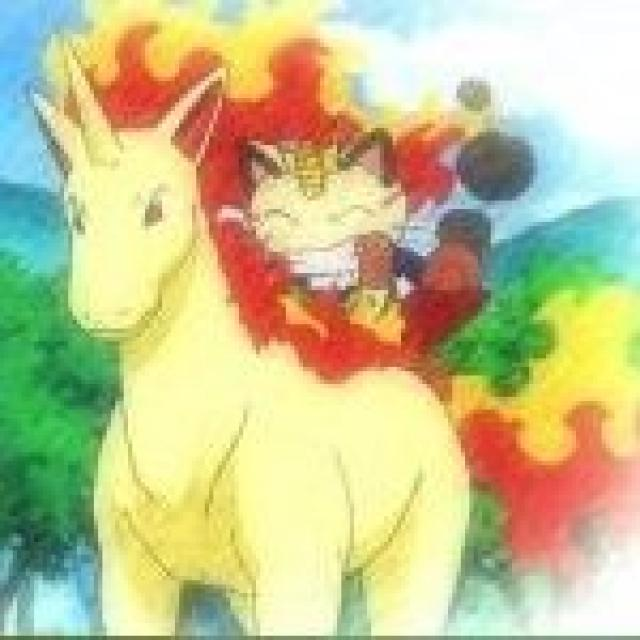Meowth: (234, 126, 414, 294)
Rapidash: (31, 61, 478, 640)
